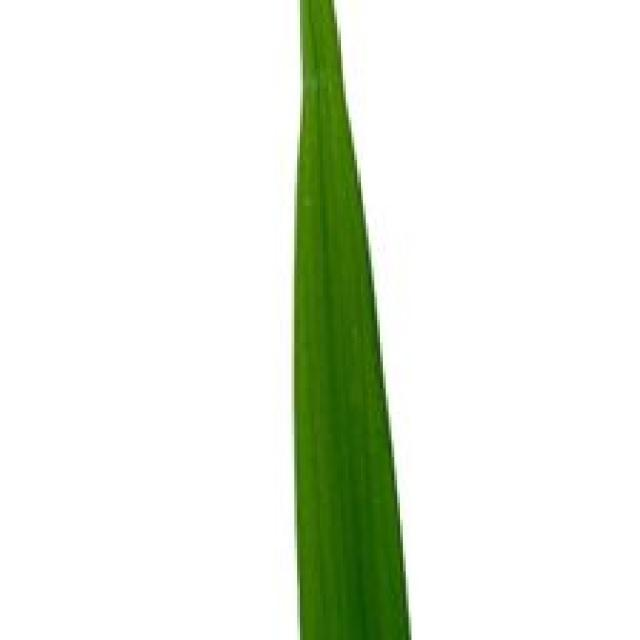Rice___Healthy_Rice_Plant: (296, 0, 413, 637)
